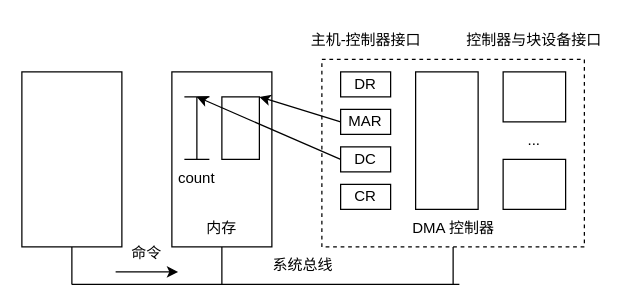
Some shapes in this 625 by 308 pixel diagram are drawn without their labels. Here are the shapes that lost their labels. From the top down, the centre of each, then its label:
At point (71, 159): "CPU".
At point (446, 140): "IO 控制 逻辑".
